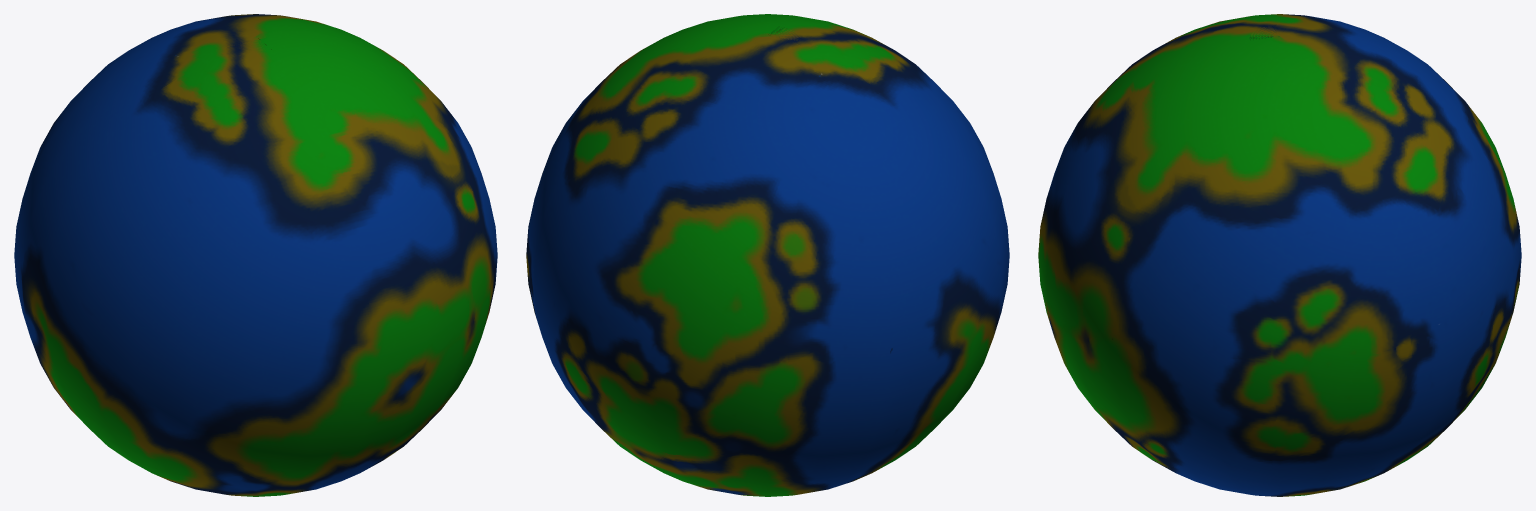
File: PlantetBall.fbx
3 views of the same model, side by side, from view 1: azimuth 30°, elevation 25°; view 2: azimuth 150°, elevation 25°; view 3: azimuth 270°, elevation 25° (orthographic).
Parts seen in each view (by area): view 1: PlanetBall; view 2: PlanetBall; view 3: PlanetBall.
Part boxes in pixels (left/top/right/bottom): PlanetBall: left=14, top=14, right=497, bottom=496; PlanetBall: left=526, top=14, right=1009, bottom=496; PlanetBall: left=1038, top=14, right=1521, bottom=496.
Bounding box in the file's own units: 34.91 × 34.91 × 34.91.
